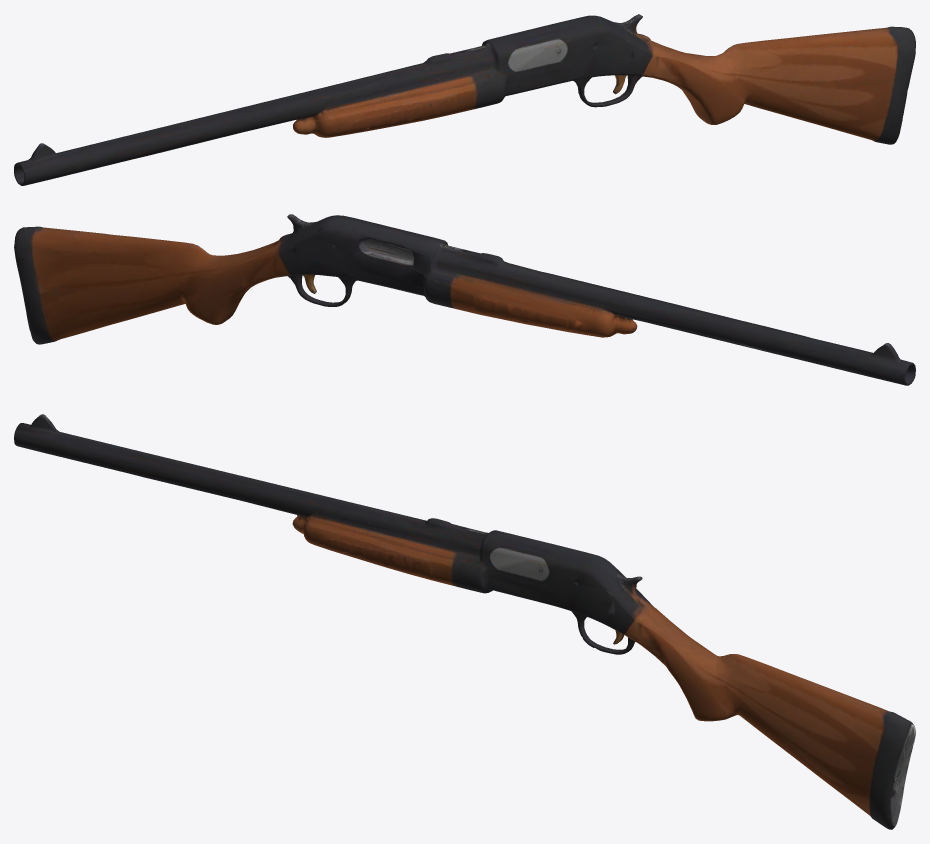
File: wpn_shotgun.glb
3 views of the same model, one above another, from view 1: azimuth 30°, elevation 25°; view 2: azimuth 150°, elevation 25°; view 3: azimuth 330°, elevation 25° (orthographic).
Size of the model in its own units: 1.91 by 0.4252 by 0.0981.
1 material, 1 textured.
